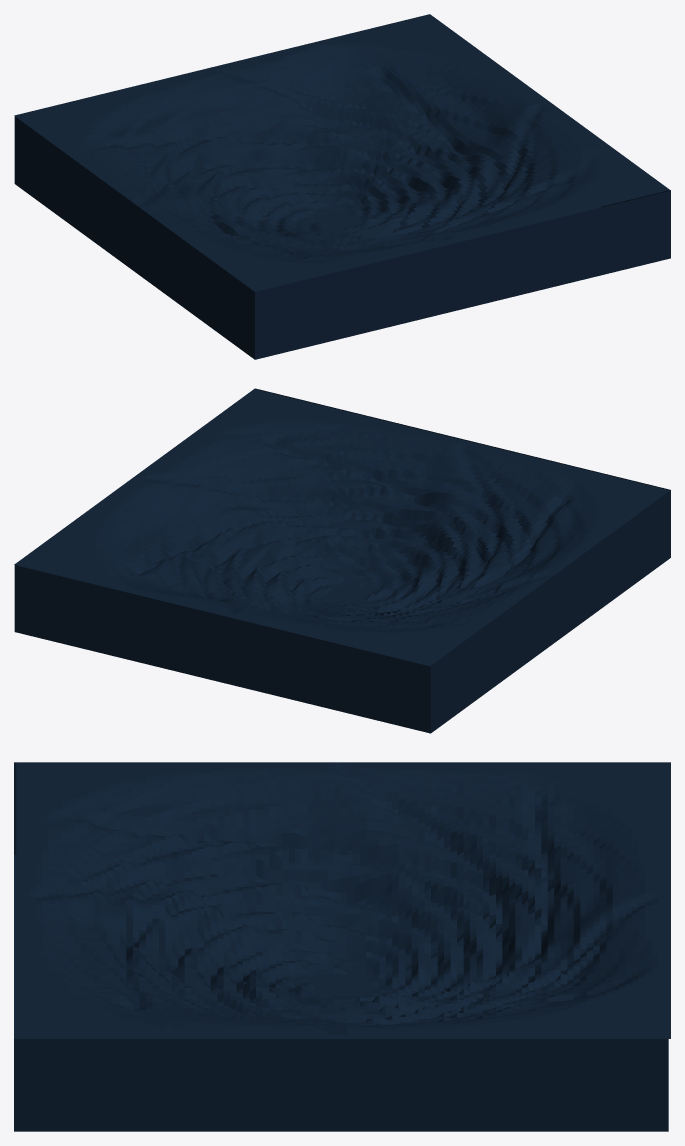
File: jupiter.obj
The picture shows the model from 3 angles, top to bottom: view 1: azimuth 30°, elevation 25°; view 2: azimuth 150°, elevation 25°; view 3: azimuth 270°, elevation 25°; orthographic projection. The views are drawn at different scales.
Parts seen in each view (by area): view 1: Plane, Cube_Cube.001; view 2: Plane, Cube_Cube.001; view 3: Plane, Cube_Cube.001.
Boxes of the visible parts, bbox=[...] form: Plane: bbox=[14, 14, 669, 291]; Cube_Cube.001: bbox=[14, 104, 670, 359]; Plane: bbox=[14, 389, 669, 666]; Cube_Cube.001: bbox=[14, 388, 670, 733]; Plane: bbox=[16, 762, 670, 1038]; Cube_Cube.001: bbox=[14, 762, 668, 1131].
Bounding box in the file's own units: 16 × 2.5 × 16.06.
